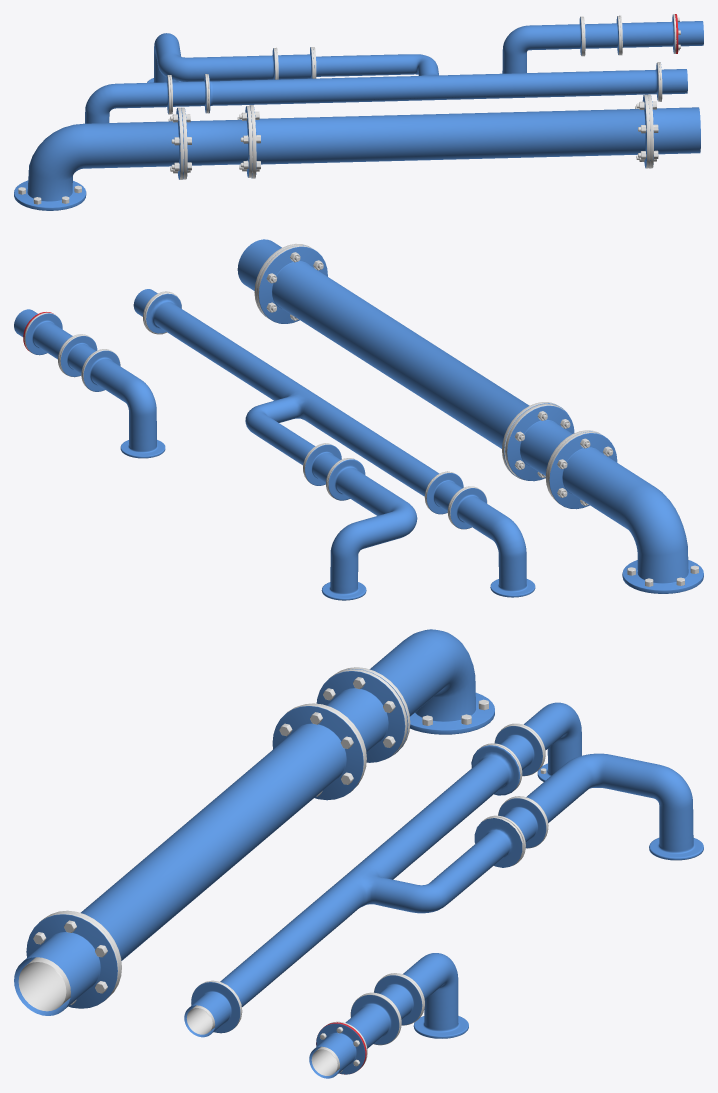
File: NewTrub.fbx
The picture shows the model from 3 angles, top to bottom: view 1: azimuth 30°, elevation 25°; view 2: azimuth 150°, elevation 25°; view 3: azimuth 270°, elevation 25°; orthographic projection. The views are drawn at different scales.
Visible parts, largest first — view 1: Flanged pipe.048, Retopo_02-13, Flanged pipe.057, Retopo_04-13, Flanged pipe.058, Flanged pipe.047, Retopo_04-14, Retopo_04-12, Retopo_02-14, Retopo_03-13.001, Retopo_03-14, Retopo_03-13 (+2 smaller); view 2: Flanged pipe.048, Retopo_02-13, Flanged pipe.057, Retopo_04-13, Retopo_04-12, Retopo_04-14, Flanged pipe.058, Retopo_02-14, Flanged pipe.047, Retopo_03-13.001, Retopo_03-13, Retopo_03-14; view 3: Flanged pipe.048, Retopo_02-13, Flanged pipe.057, Flanged pipe.047, Retopo_04-13, Flanged pipe.058, Retopo_04-14, Retopo_04-12, Retopo_01-14, Retopo_01-13, Retopo_02-14, Retopo_03-13 (+2 smaller).
Part boxes in pixels (box(x1,y1,x2,y2)): Flanged pipe.048: box(249, 94, 650, 178); Retopo_02-13: box(207, 47, 660, 113); Flanged pipe.057: box(14, 107, 183, 210); Retopo_04-13: box(147, 33, 276, 82); Flanged pipe.058: box(181, 106, 252, 179); Flanged pipe.047: box(647, 94, 700, 168); Retopo_04-14: box(502, 16, 583, 73); Retopo_04-12: box(85, 75, 170, 123); Retopo_02-14: box(619, 14, 676, 55); Retopo_03-13.001: box(169, 74, 208, 114); Retopo_03-14: box(582, 16, 620, 56); Retopo_03-13: box(275, 47, 314, 79); Flanged pipe.048: box(256, 245, 567, 480); Retopo_02-13: box(144, 292, 453, 508); Flanged pipe.057: box(547, 431, 703, 593); Retopo_04-13: box(321, 458, 417, 600); Retopo_04-12: box(449, 487, 535, 597); Retopo_04-14: box(82, 349, 165, 458); Flanged pipe.058: box(505, 404, 604, 496); Retopo_02-14: box(24, 312, 89, 374); Flanged pipe.047: box(237, 239, 310, 316); Retopo_03-13.001: box(425, 472, 476, 524); Retopo_03-13: box(303, 443, 353, 497); Retopo_03-14: box(59, 335, 110, 385); Flanged pipe.048: box(44, 704, 365, 997); Retopo_02-13: box(206, 744, 523, 1019); Flanged pipe.057: box(334, 629, 494, 758); Flanged pipe.047: box(14, 912, 119, 1015); Retopo_04-13: box(505, 753, 703, 860); Flanged pipe.058: box(304, 669, 407, 775); Retopo_04-14: box(383, 953, 468, 1038); Retopo_04-12: box(501, 702, 581, 781); Retopo_01-14: box(309, 1022, 366, 1078); Retopo_01-13: box(184, 981, 241, 1037); Retopo_02-14: box(327, 993, 400, 1066); Retopo_03-13: box(482, 797, 547, 865).
Bounding box in the file's own units: 562 × 103 × 840.
